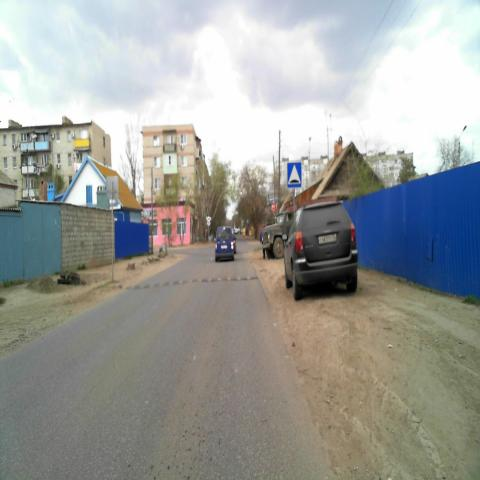5_20: (288, 162, 301, 188)
